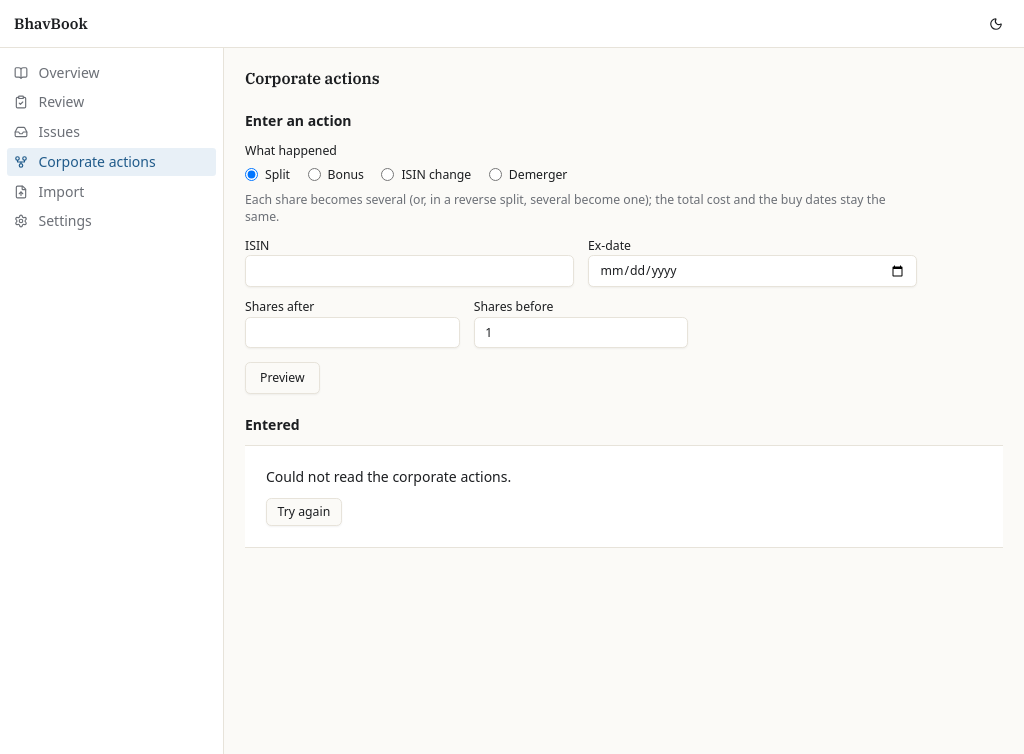
Test: the corporate actions page › says why a save failed
This screenshot has width=1024, height=754.
Type "INE155A01022" into the field labelled "ISIN" at (410, 271), box [245, 255, 574, 287]
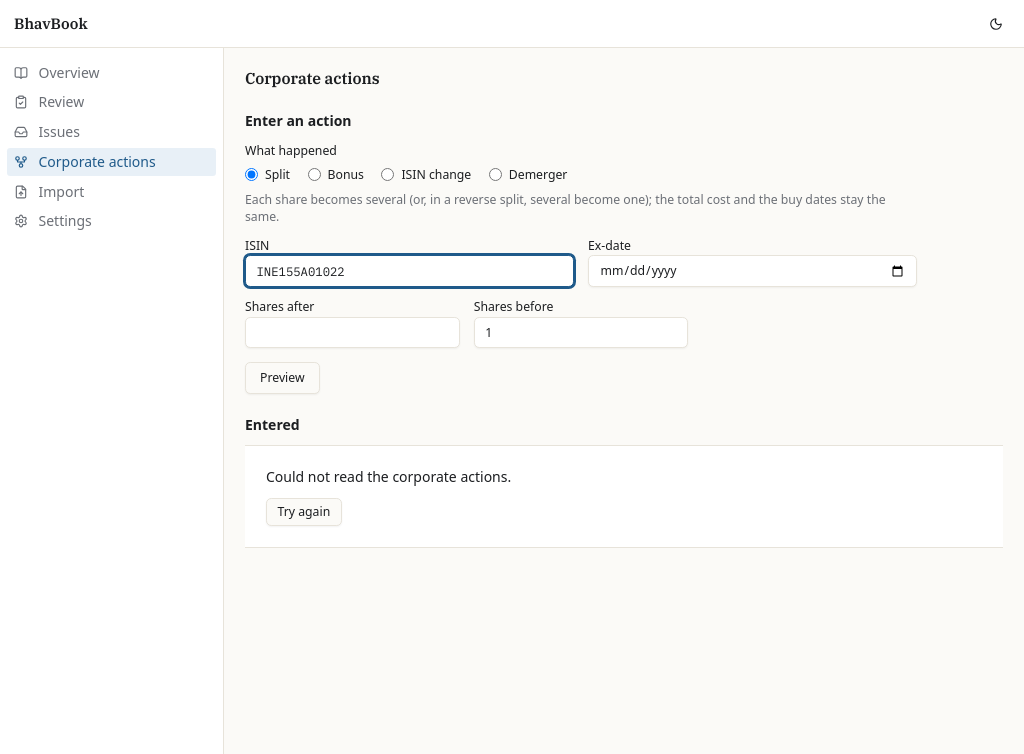
Type "2025-10-14" into the date field labelled "Ex-date" at (752, 271), box [588, 255, 917, 287]
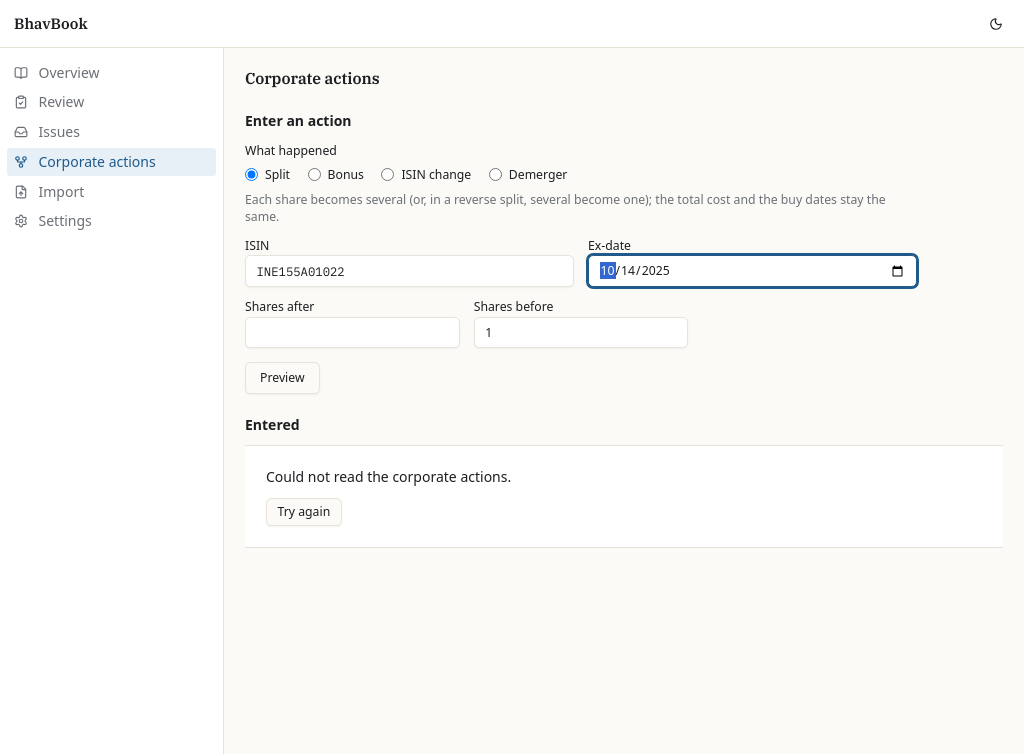
Type "5" into the field labelled "Shares after" at (352, 332), box [245, 316, 460, 348]
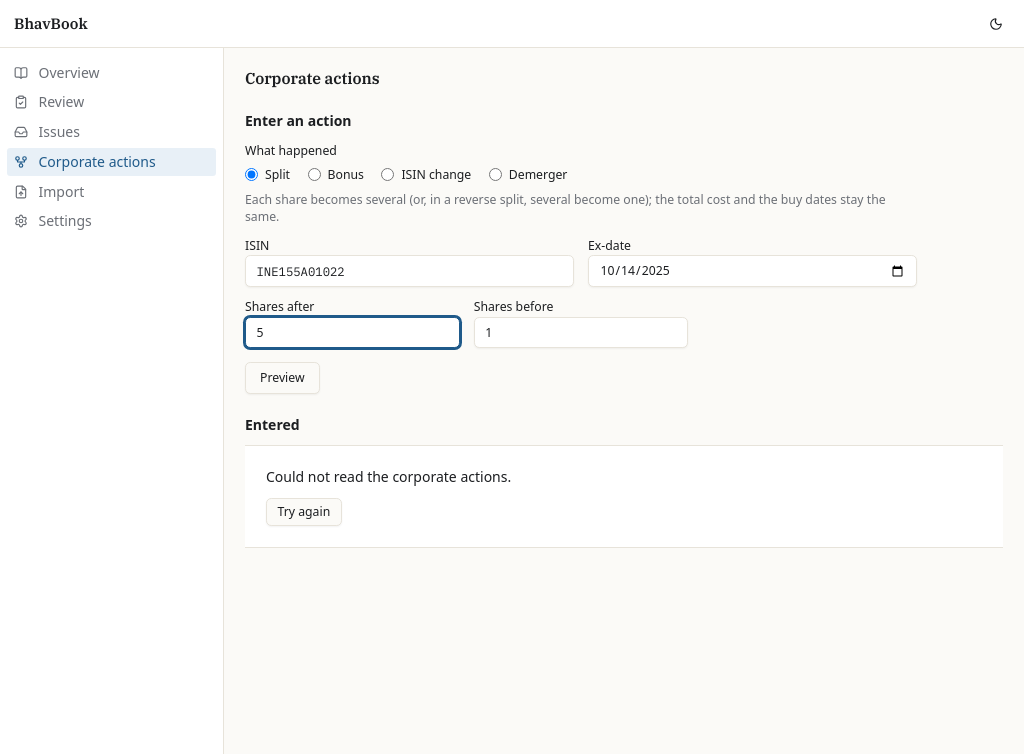
Click the button "Preview" at (282, 378), box [245, 362, 320, 394]
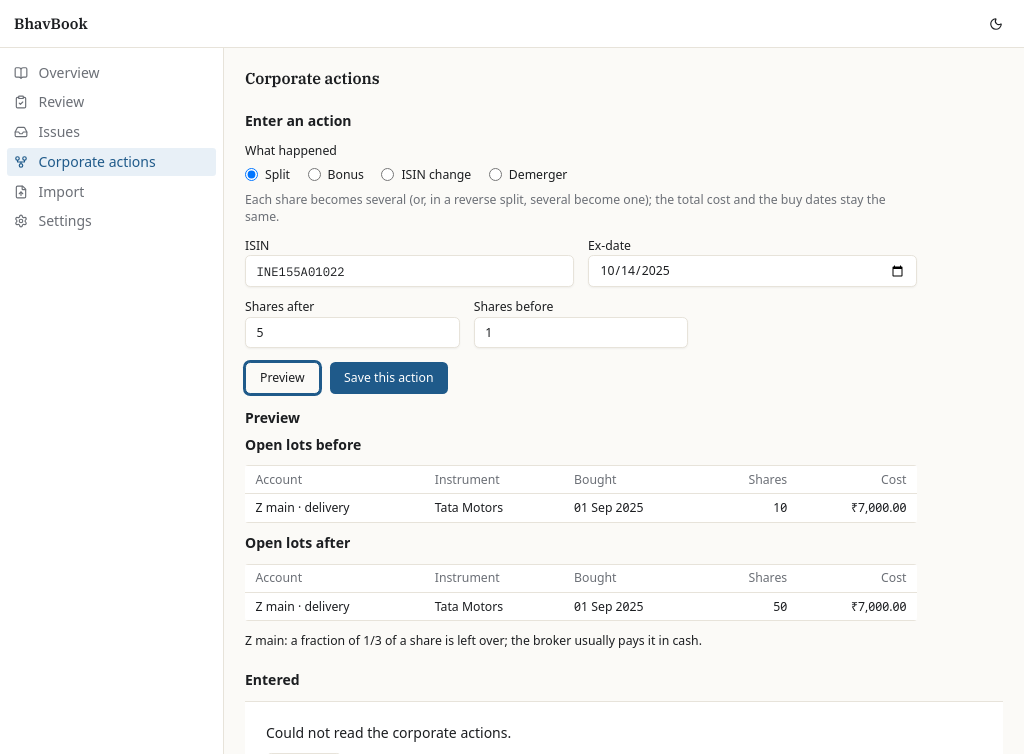
Click the button "Save this action" at (389, 378), box [330, 362, 448, 394]
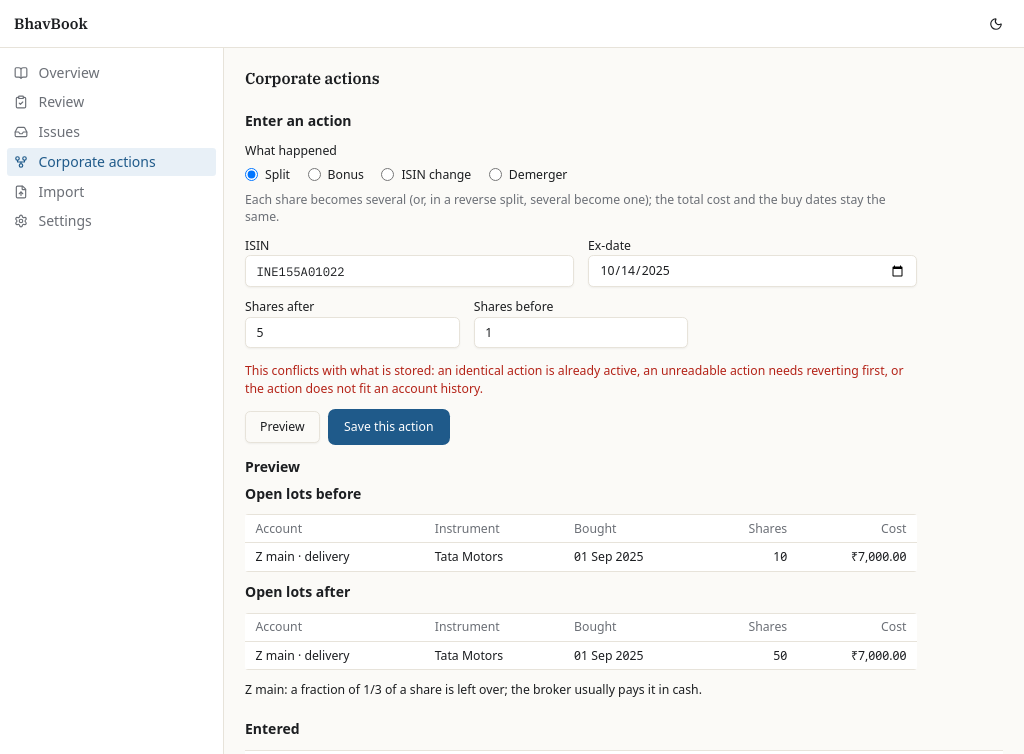
expect the text "This conflicts with what is stored" is shown: met, box [245, 362, 904, 396]
